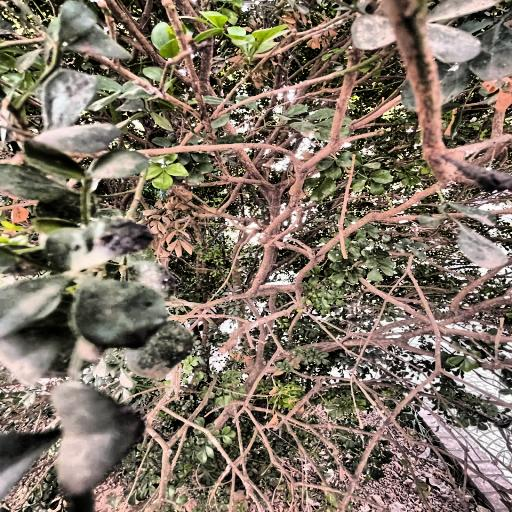la dom: (18, 56, 186, 478)
